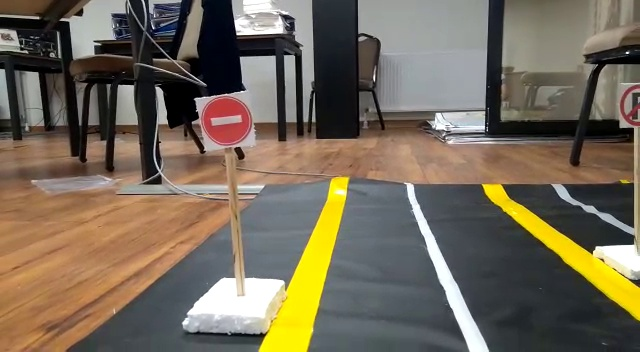girisi_olmayan_yol: (194, 94, 257, 145)
park_yapilmaz: (617, 84, 640, 127)
